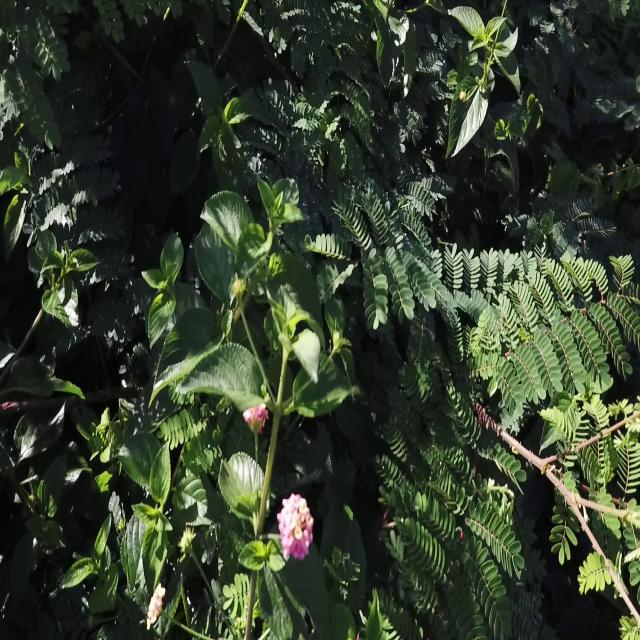Mysore-Thorn-Weed: (357, 187, 640, 640), (2, 0, 143, 310), (240, 8, 370, 208)
